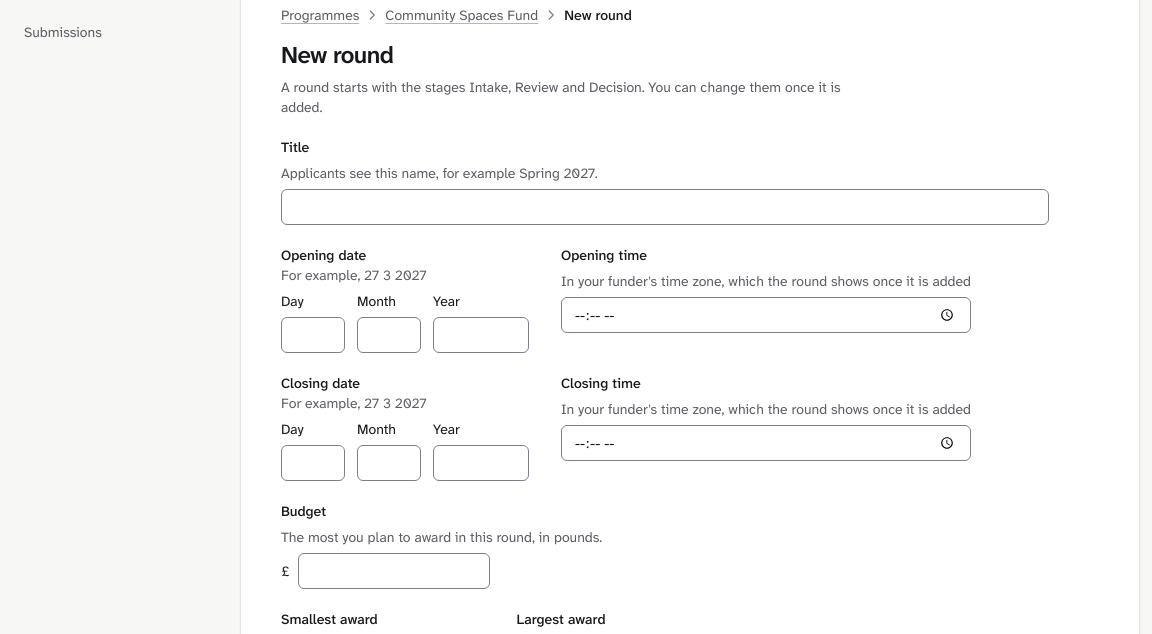
it: adding a round › asks before leaving with entries that are not saved
The image size is (1152, 634).
Type "Autumn" into the field labelled "Title" at (665, 207), box [281,189,1049,225]
(page scrolled)
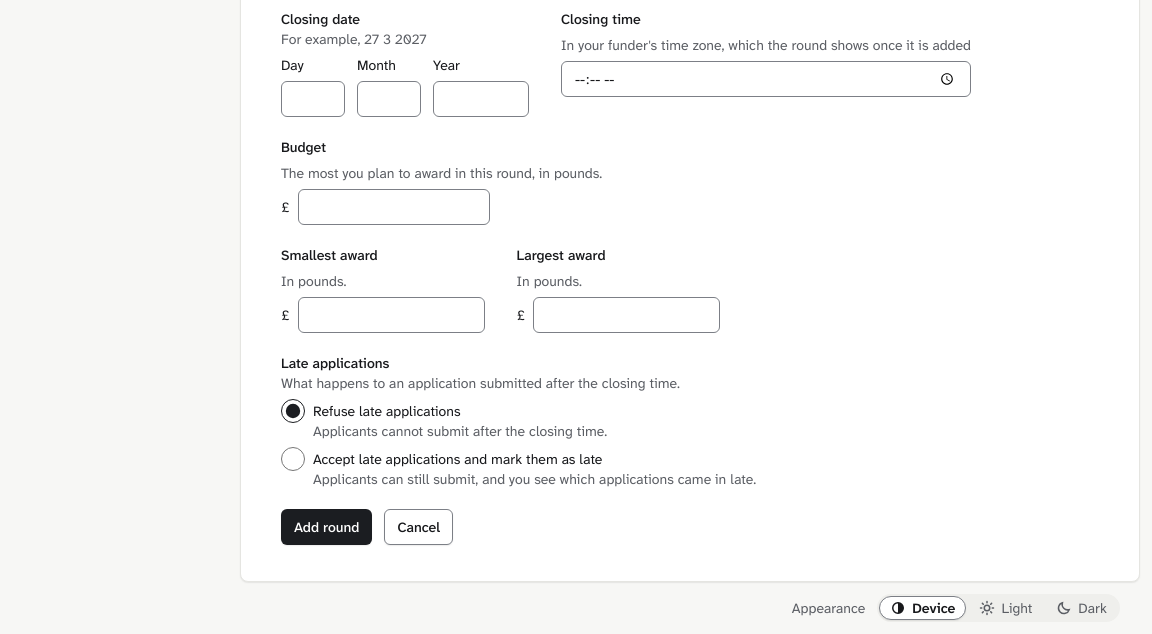
Click the link "Cancel" at (419, 527), box [384,509,453,545]
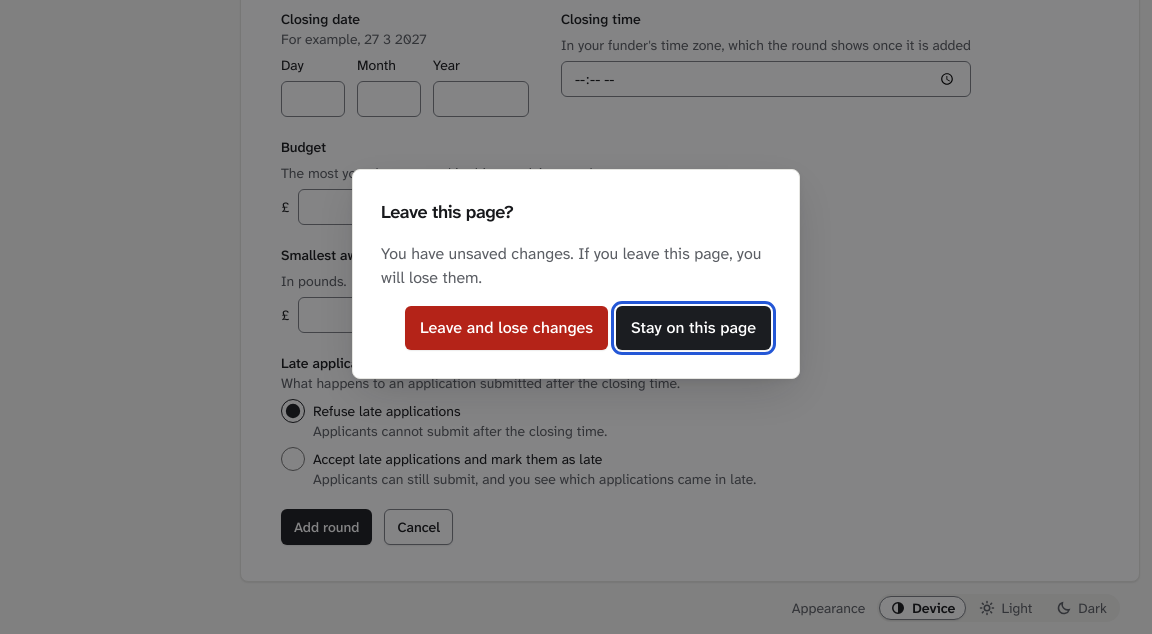
Expected: the dialog "Leave this page?" is shown, [352,169,800,379]
